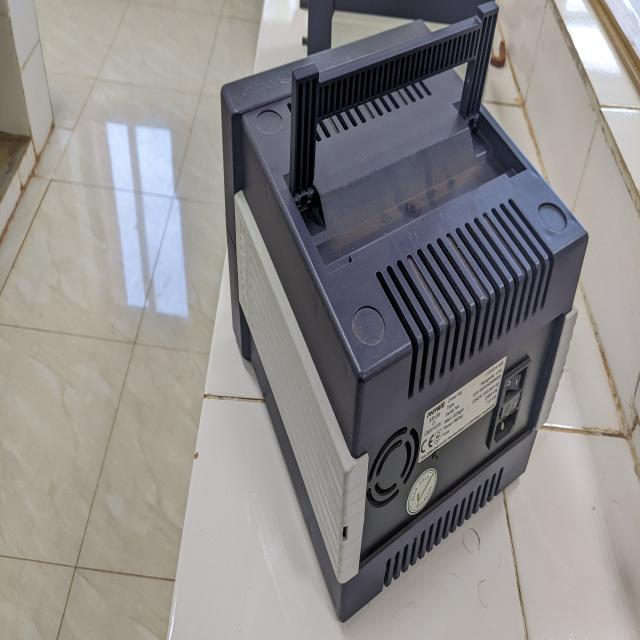Netzgerat Universal Power Supply: (211, 8, 605, 624)
